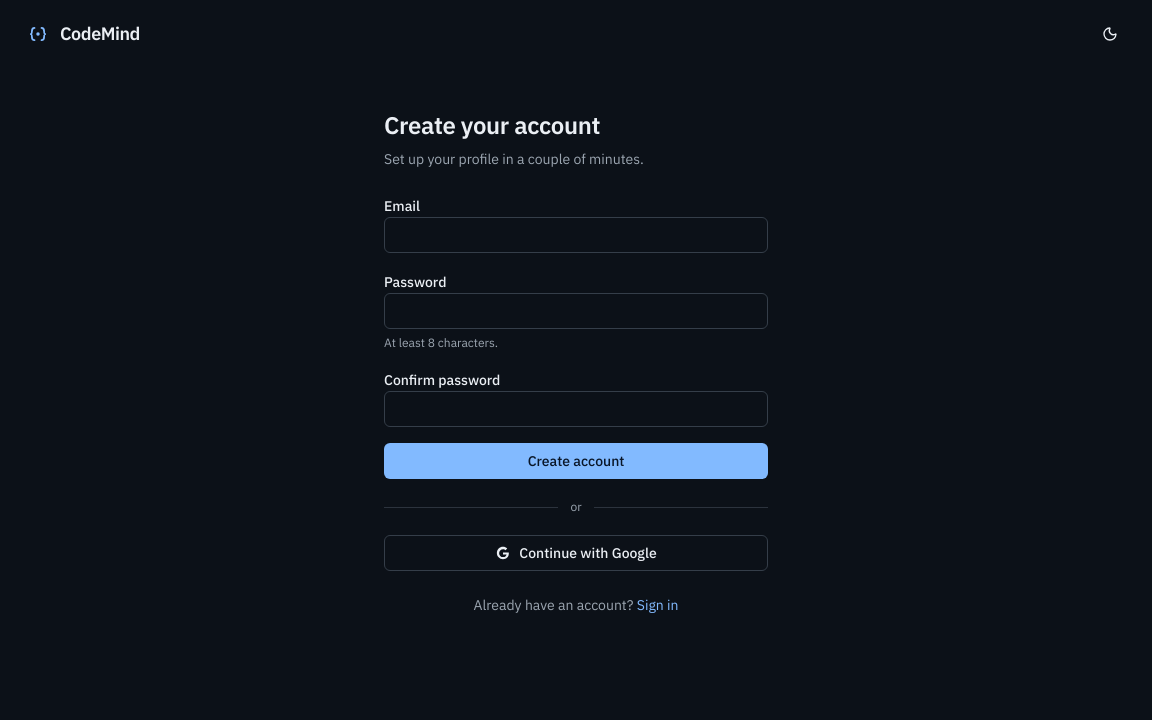
it: RegisterPage › rejects short and mismatched passwords
Step 1. Type "a@b.co" into the field labelled "Email" → (576, 235), box top-left (384, 217), bottom-right (768, 253)
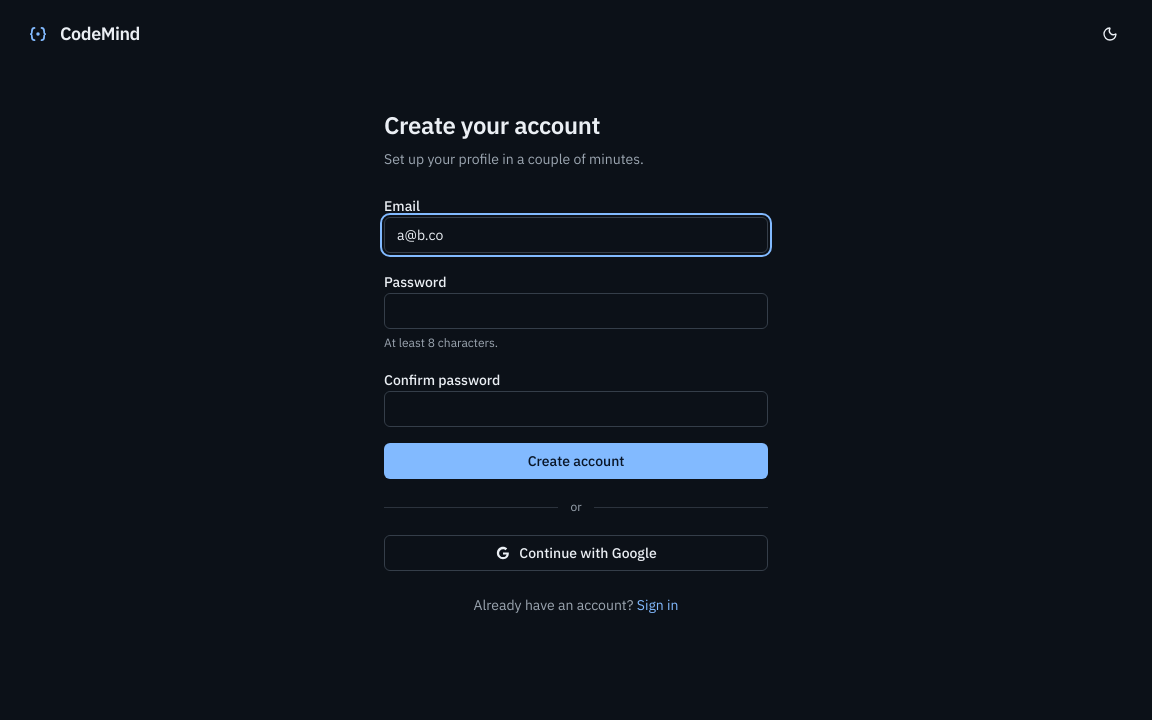
Step 2. Type "short" into the password field labelled "Password" → (576, 311), box top-left (384, 293), bottom-right (768, 329)
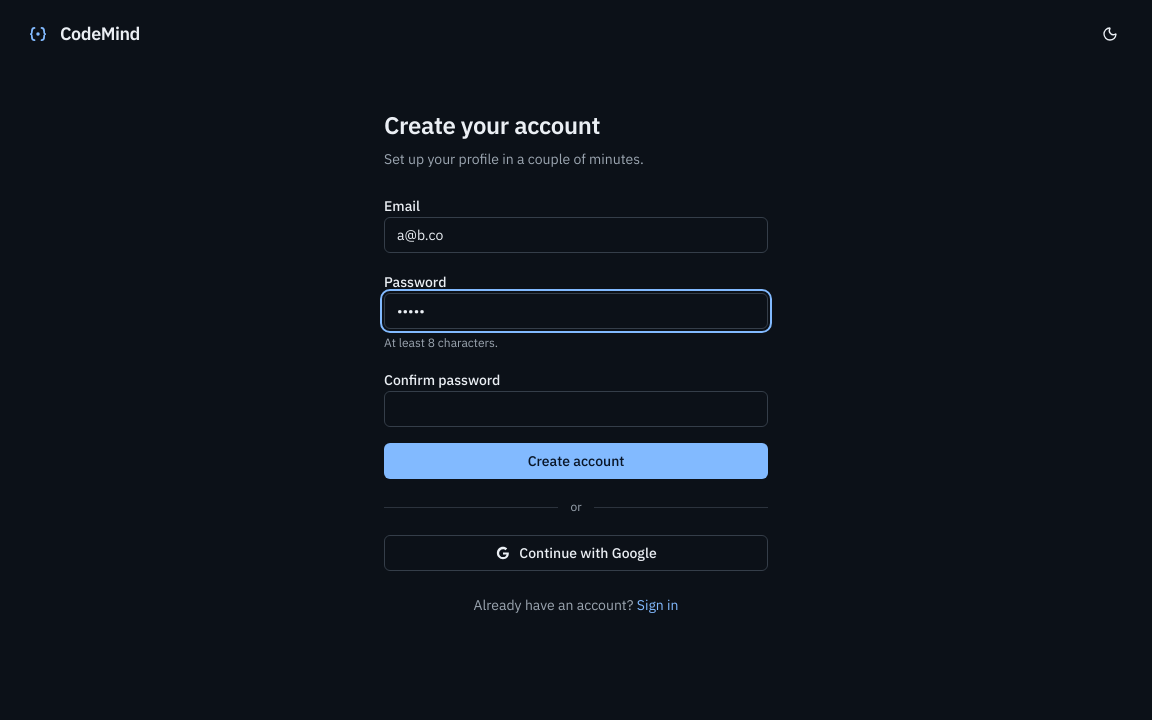
Step 3. Type "different" into the password field labelled "Confirm password" → (576, 409), box top-left (384, 391), bottom-right (768, 427)
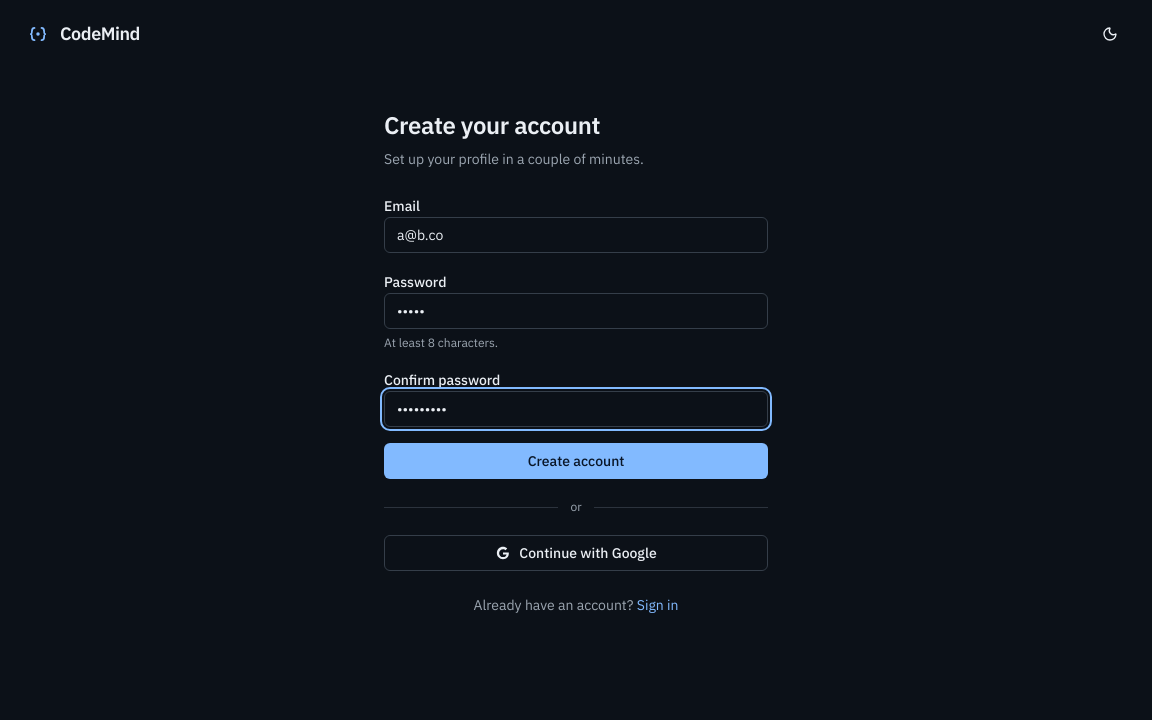
Step 4. Click the button "Create account" → (576, 461), box top-left (384, 443), bottom-right (768, 479)
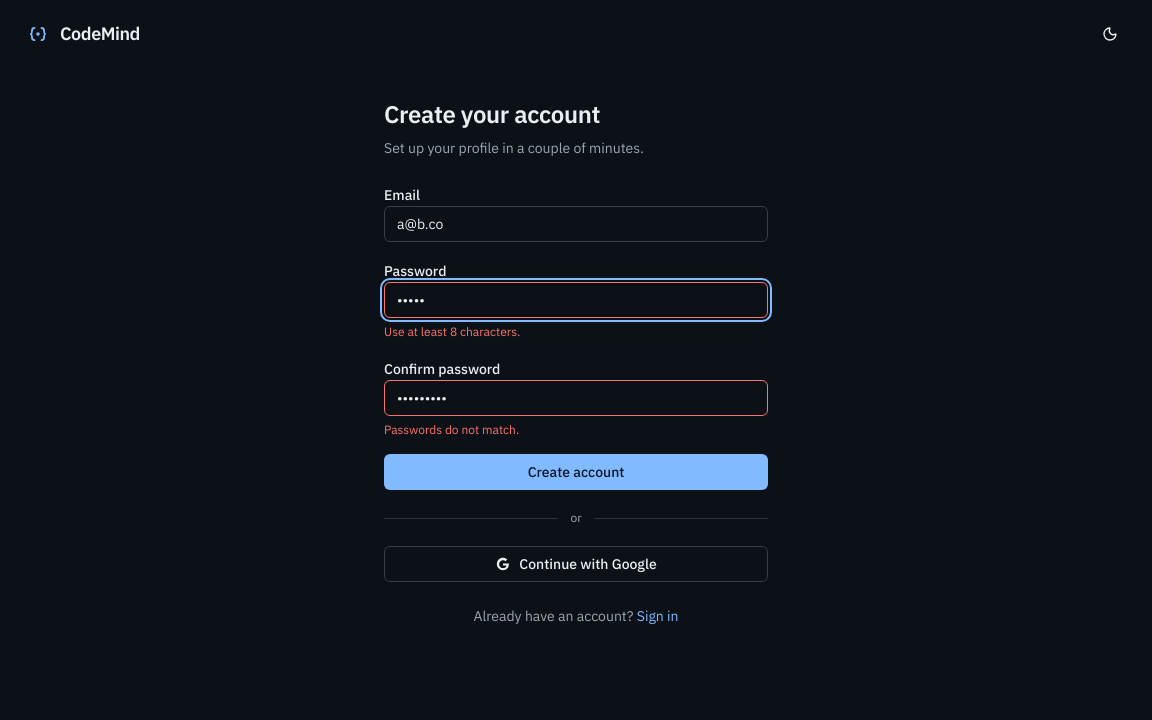
Check: the text "Use at least 8 characters." is shown, box top-left (384, 324), bottom-right (520, 339)
